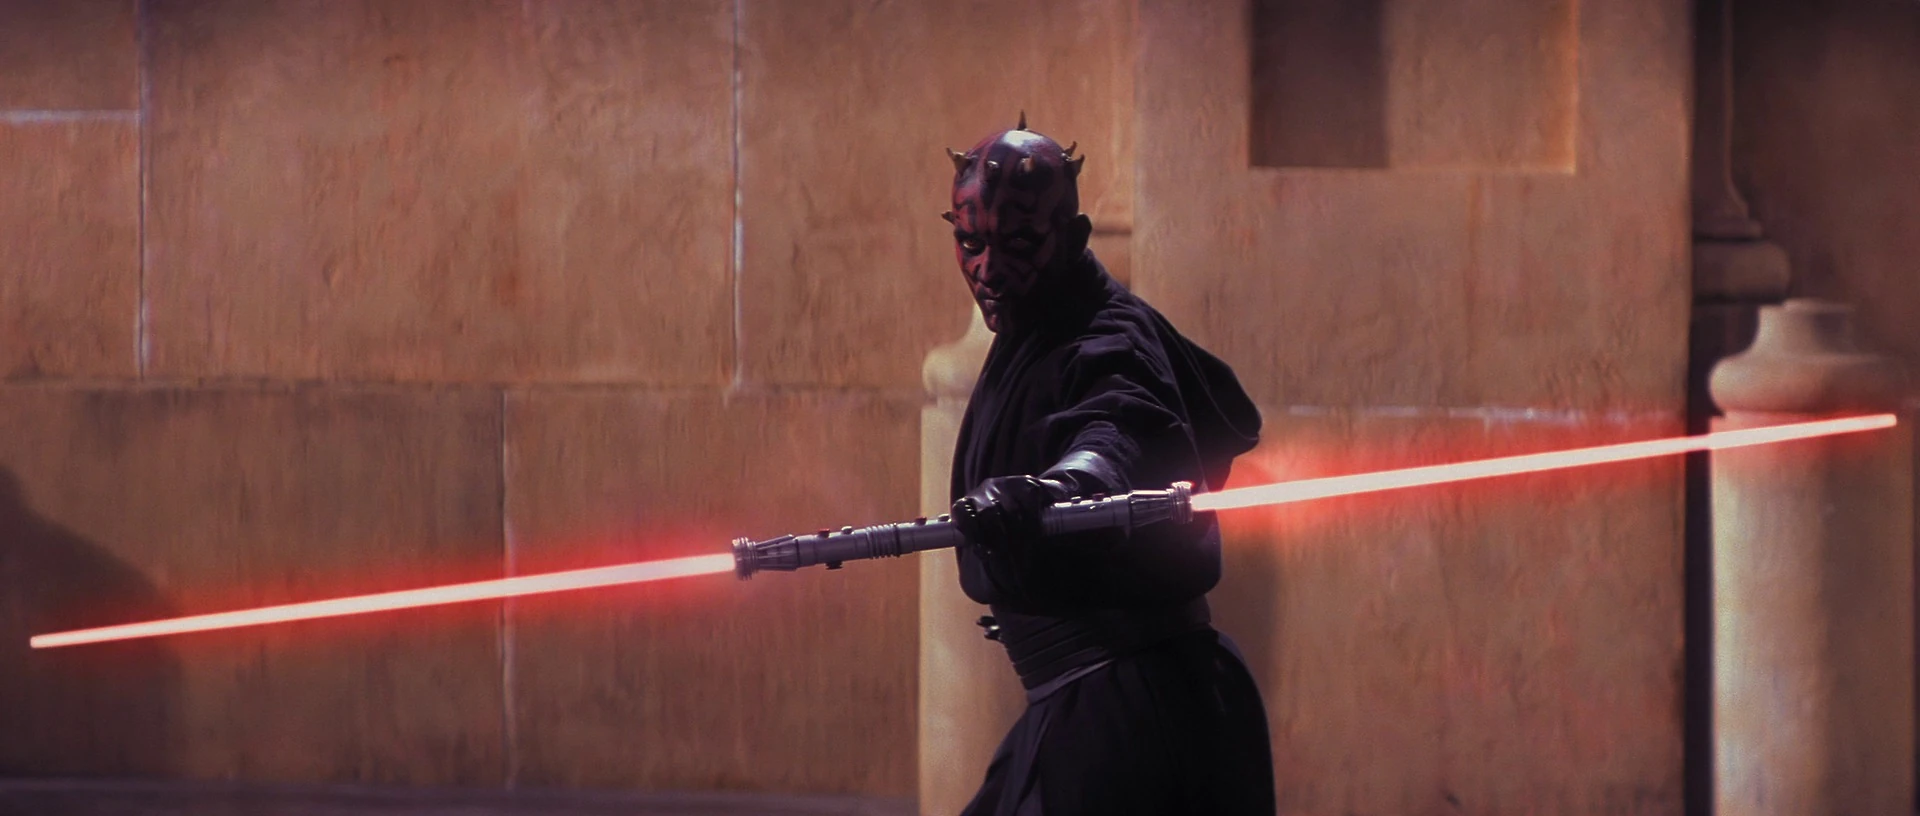cats: (18, 410, 1905, 649)
